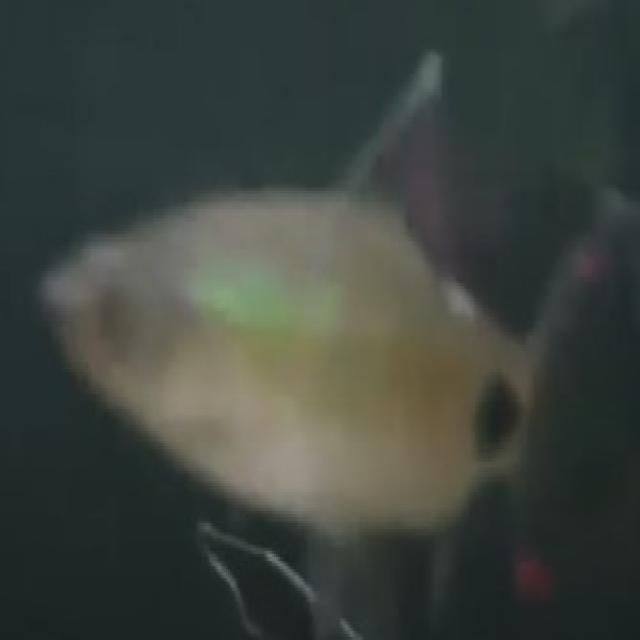Black-Spotted-Barb: (19, 76, 615, 585)
